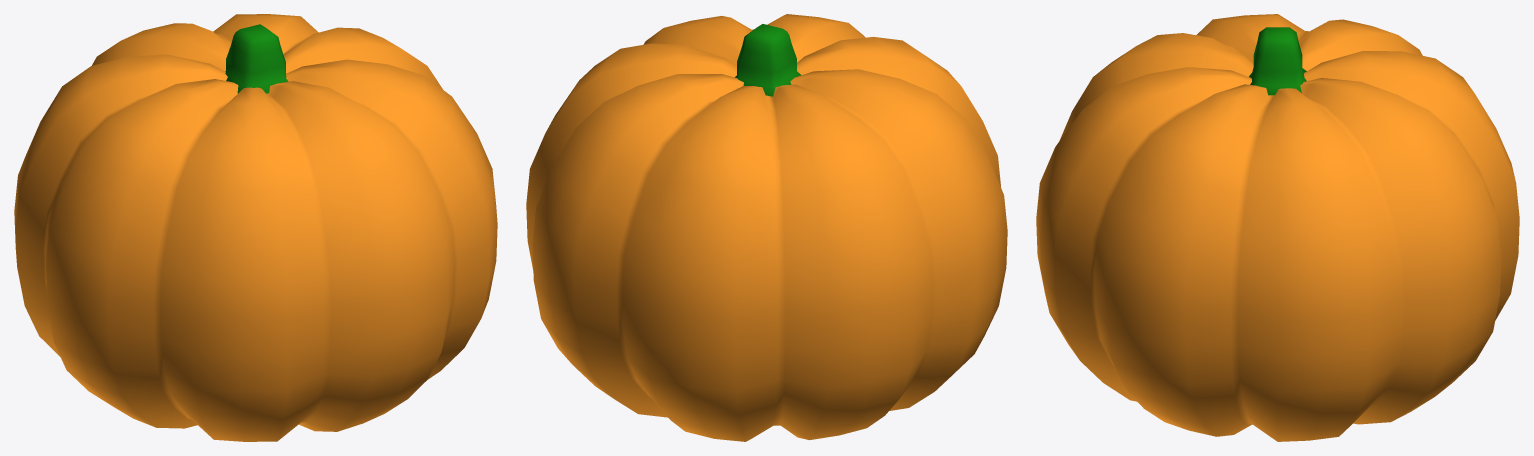
File: Pumpkin.fbx
3 views of the same model, side by side, from view 1: azimuth 30°, elevation 25°; view 2: azimuth 150°, elevation 25°; view 3: azimuth 270°, elevation 25° (orthographic).
Parts seen in each view (by area): view 1: Sphere.003; view 2: Sphere.003; view 3: Sphere.003.
Part boxes in pixels (x1=…): Sphere.003: x1=14, y1=14, x2=497, y2=441; Sphere.003: x1=526, y1=14, x2=1007, y2=441; Sphere.003: x1=1036, y1=14, x2=1519, y2=441.
Bounding box in the file's own units: 3.01 × 2.52 × 3.01.
